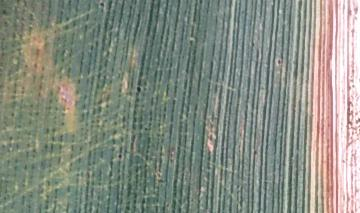tarspot: (134, 83, 143, 96), (276, 56, 284, 69), (98, 1, 107, 10)
